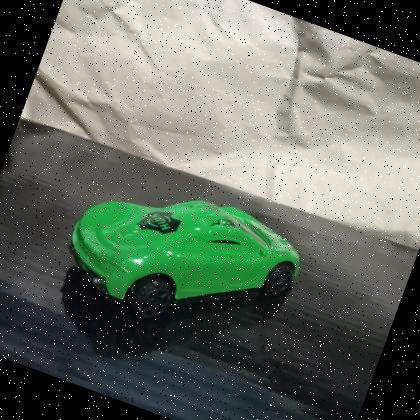Car: (47, 150, 323, 370)
